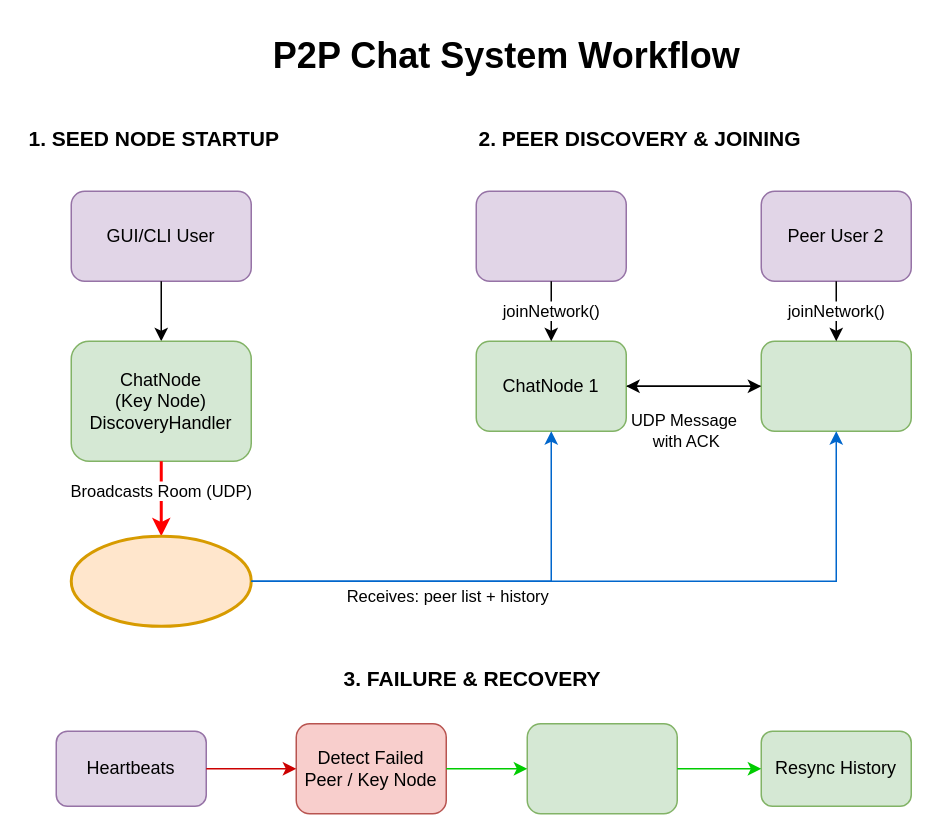
This 938x840 diagram has some shape labels left out. Each missing label, with the centre of its shape:
"ChatNode 2" belongs at point 835,385.
"Elect New Key Node" belongs at point 601,768.
"LAN Broadcast" belongs at point 160,580.
"Peer User 1" belongs at point 550,235.
